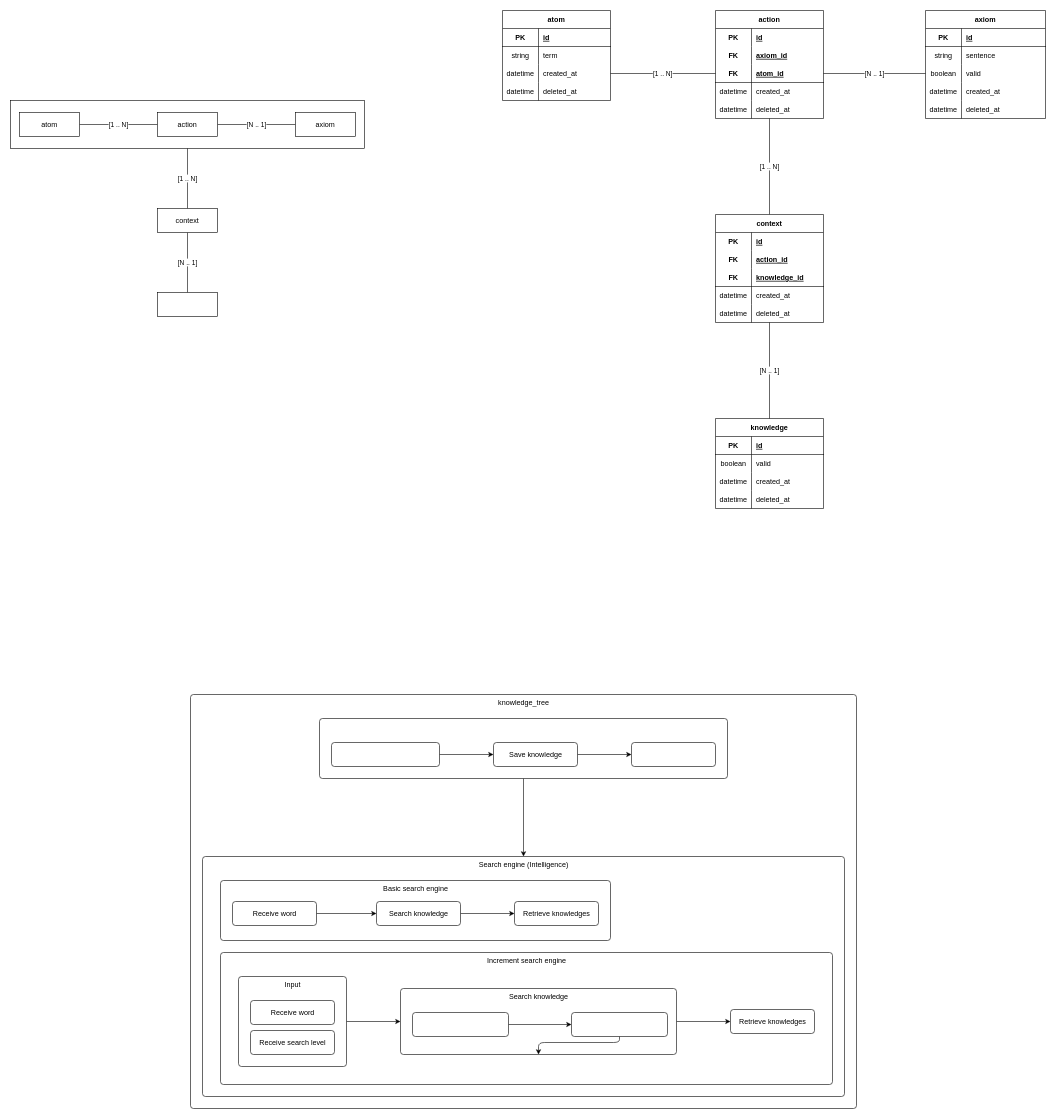
Some shapes in this 1056 by 1119 pixel diagram are drawn without their labels. Here are the shapes that lost their labels. From the top down, the centre of each, then its label:
At (x=187, y=304): "knowlodge".
At (x=385, y=754): "Receive knowledge".
At (x=673, y=754): ":Knowledge".
At (x=460, y=1024): "Find knowledge N level".
At (x=619, y=1024): "Get tags".
